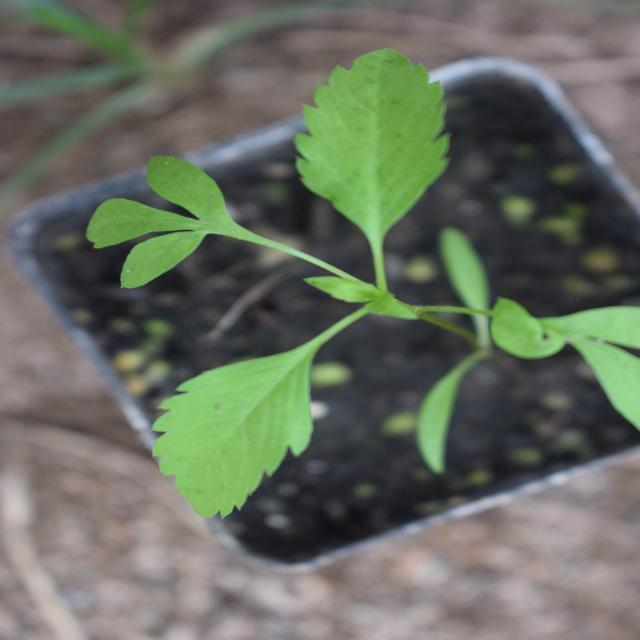Bidens pilosa: (62, 112, 507, 568)
